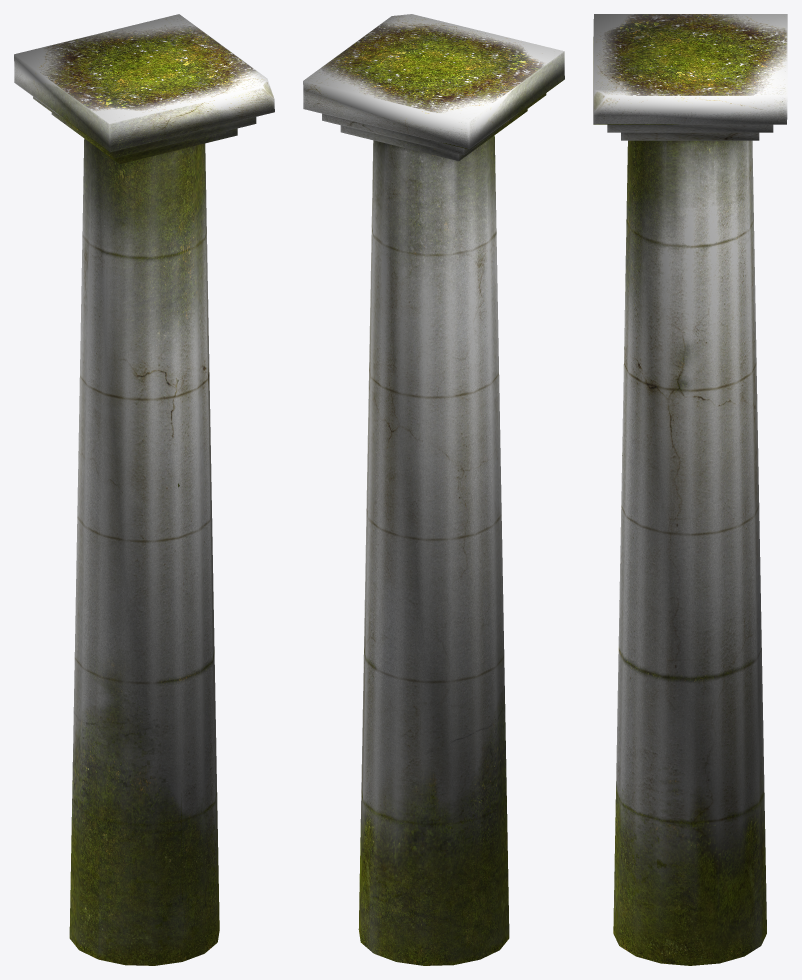
File: pillar.glb
The picture shows the model from 3 angles, left to right: view 1: azimuth 30°, elevation 25°; view 2: azimuth 150°, elevation 25°; view 3: azimuth 270°, elevation 25°; orthographic projection.
Parts seen in each view (by area): view 1: pillar; view 2: pillar; view 3: pillar.
Boxes of the visible parts, x1,y1,x2,y2 form: pillar: [14, 14, 274, 965]; pillar: [303, 14, 564, 965]; pillar: [593, 14, 787, 965].
Size of the model in its own units: 1.26 by 6.31 by 1.26.
Materials: 1 (1 with a texture image).
